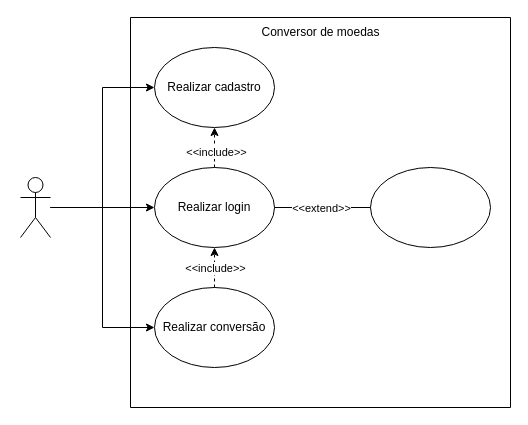
The diagram is 528 pixels wide and 425 high, and some of its shapes have lost their labels. The centre of each missing label's shape, as x and y in pixels:
Cliente: the point at 35,207
Verificar existência de cadastro: the point at 430,207
